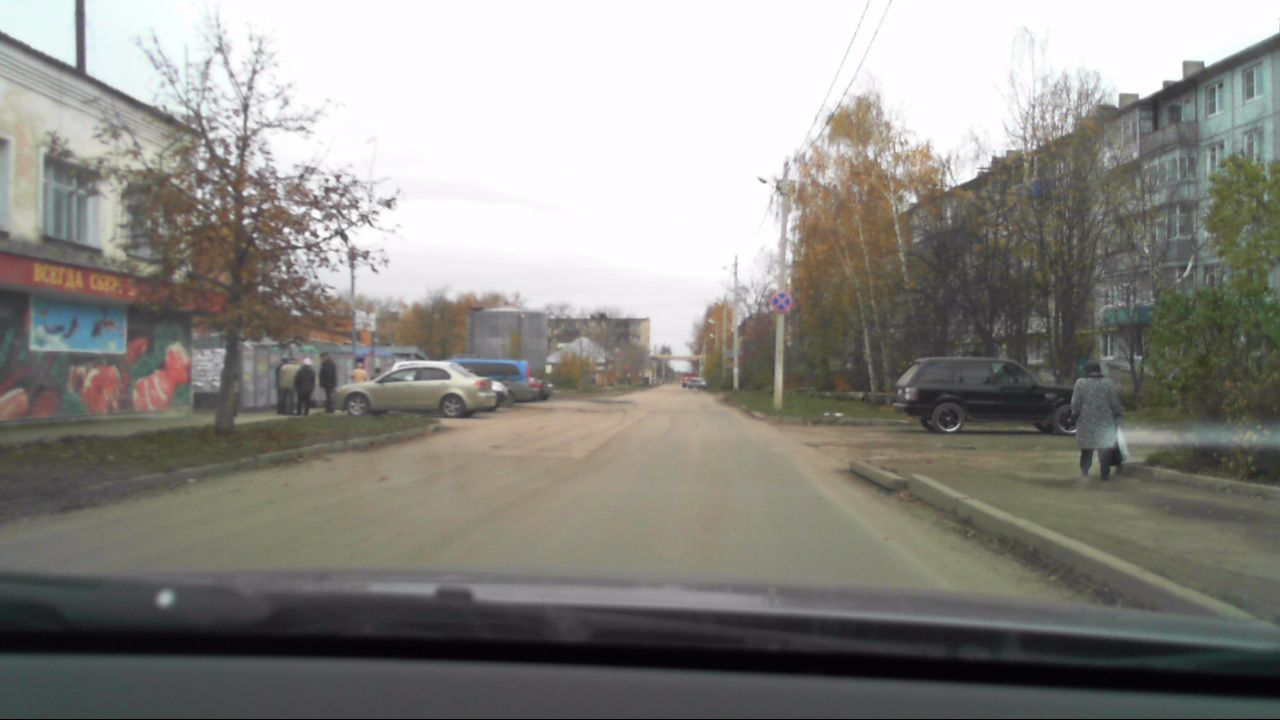No Parking: (770, 291, 791, 311)
